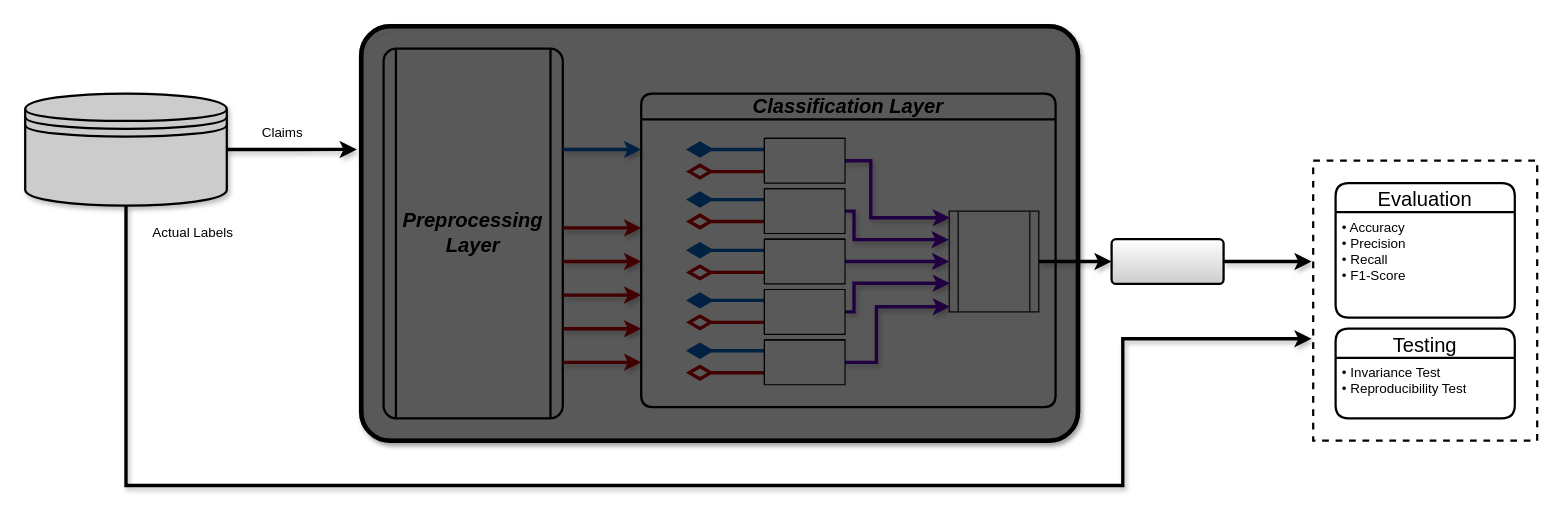
Some shapes in this 1557 by 523 pixel diagram are drawn without their labels. Each missing label, with the centre of its shape:
"Predictions" belongs at point (1167, 260).
"Test Dataset with Evidences (CSV)" belongs at point (126, 150).
